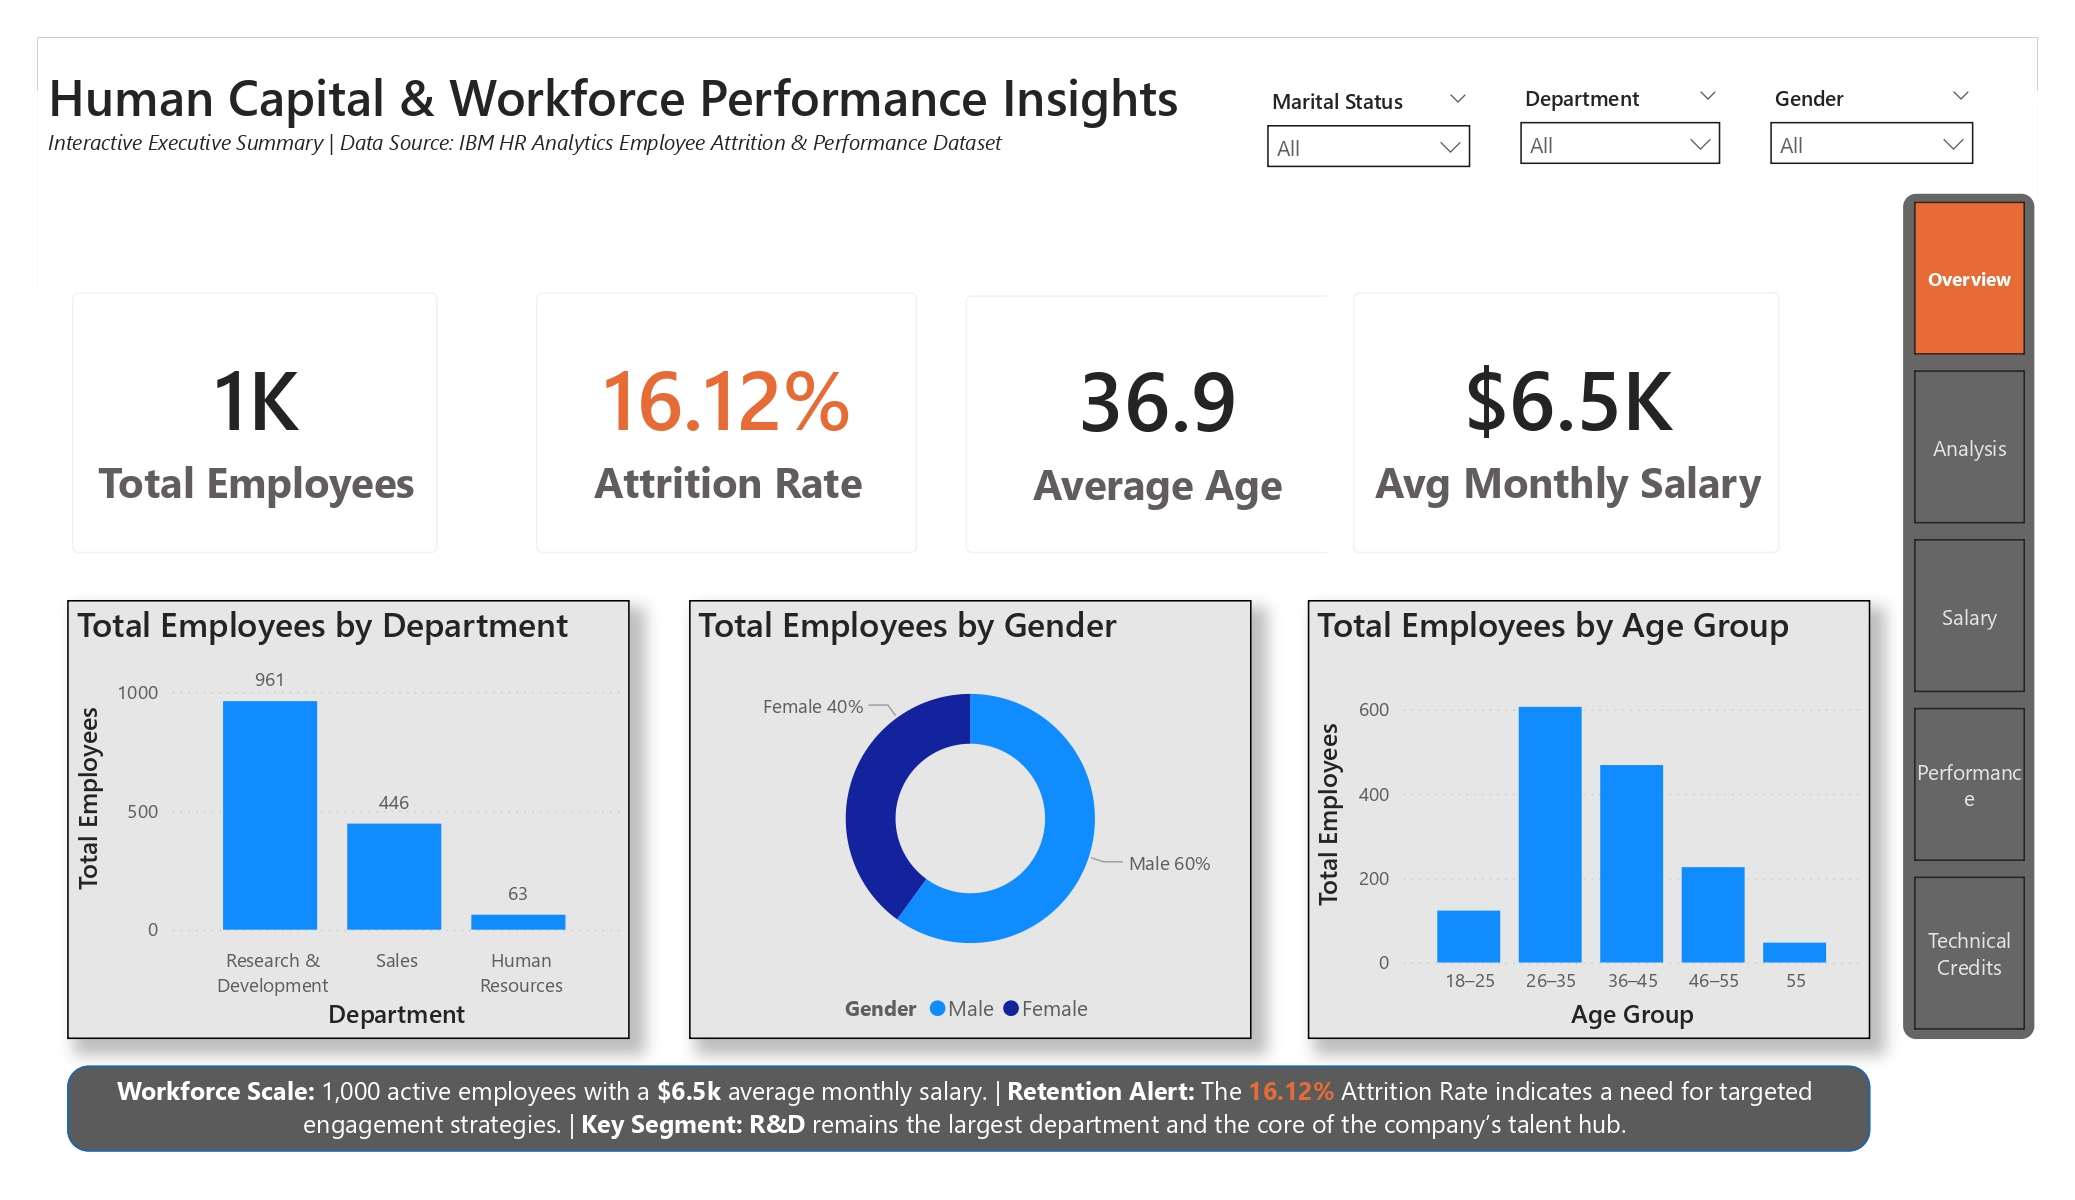

This screenshot's page, from the dashboard's own definition file:
{"tool":"powerbi","page":{"name":"Overview","canvas":[1280,720],"ordinal":0},"visuals":[{"type":"cardVisual","fields":{"Data":["HR.Total Employees"]},"box":[5.4,146.5,267.7,200],"z":0},{"type":"cardVisual","fields":{"Data":["HR.Attrition Rate"]},"box":[301.7,146.5,278.3,200],"z":1000},{"type":"cardVisual","fields":{"Data":["HR.Average Age"]},"box":[577,148,278.3,198.5],"z":2000},{"type":"cardVisual","fields":{"Data":["HR.Average Salary"]},"box":[825.1,146.5,306.8,200],"z":3000},{"type":"clusteredColumnChart","fields":{"Category":["HR.Department"],"Y":["HR.Total Employees"]},"box":[19.1,359.9,359.9,281.3],"z":4000},{"type":"donutChart","fields":{"Category":["HR.Gender"],"Y":["HR.Total Employees"]},"box":[417.1,359.9,359.9,281.3],"z":5000},{"type":"clusteredColumnChart","fields":{"Category":["HR.Age Group"],"Y":["HR.Total Employees"]},"box":[812.8,359.9,359.9,281.3],"z":6000},{"type":"slicer","fields":{"Values":["HR.Department"]},"box":[938.5,25.1,148.9,70.8],"z":7000},{"type":"slicer","fields":{"Values":["HR.Gender"]},"box":[1098.5,25.1,150.4,70.8],"z":8000},{"type":"slicer","fields":{"Values":["HR.Marital Status"]},"box":[777,26.5,150.4,69.3],"z":9000},{"type":"textbox","box":[2.4,9.5,750.8,88.2],"z":10000},{"type":"shape","box":[1194.2,100.1,83.4,541.1],"z":11000},{"type":"pageNavigator","box":[1200.7,105.3,71.1,529.2],"z":12000},{"type":"shape","box":[19.1,657.9,1153.7,55],"z":13000},{"type":"textbox","box":[36.1,658,1114.7,55.6],"z":14000}]}

Visuals, with their boxes in screenshot pixels (x1, y1, x2, y2):
cardVisual - HR.Total Employees: l=46, t=266, r=464, b=579
cardVisual - HR.Attrition Rate: l=509, t=266, r=944, b=579
cardVisual - HR.Average Age: l=939, t=269, r=1374, b=579
cardVisual - HR.Average Salary: l=1327, t=266, r=1806, b=579
clusteredColumnChart - HR.Department x HR.Total Employees: l=67, t=600, r=630, b=1039
donutChart - HR.Gender x HR.Total Employees: l=689, t=600, r=1252, b=1039
clusteredColumnChart - HR.Age Group x HR.Total Employees: l=1308, t=600, r=1870, b=1039
slicer - HR.Department: l=1504, t=77, r=1737, b=187
slicer - HR.Gender: l=1754, t=77, r=1989, b=187
slicer - HR.Marital Status: l=1252, t=79, r=1487, b=187
textbox: l=41, t=52, r=1214, b=190
shape: l=1903, t=194, r=2034, b=1039
pageNavigator: l=1914, t=202, r=2025, b=1029
shape: l=67, t=1065, r=1870, b=1151
textbox: l=94, t=1066, r=1836, b=1152
